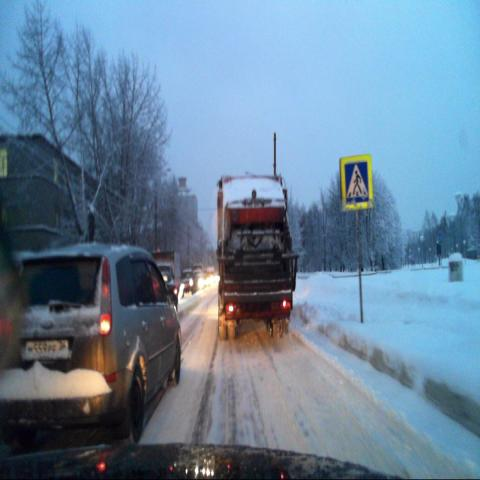5_19_1: (339, 154, 373, 209)
